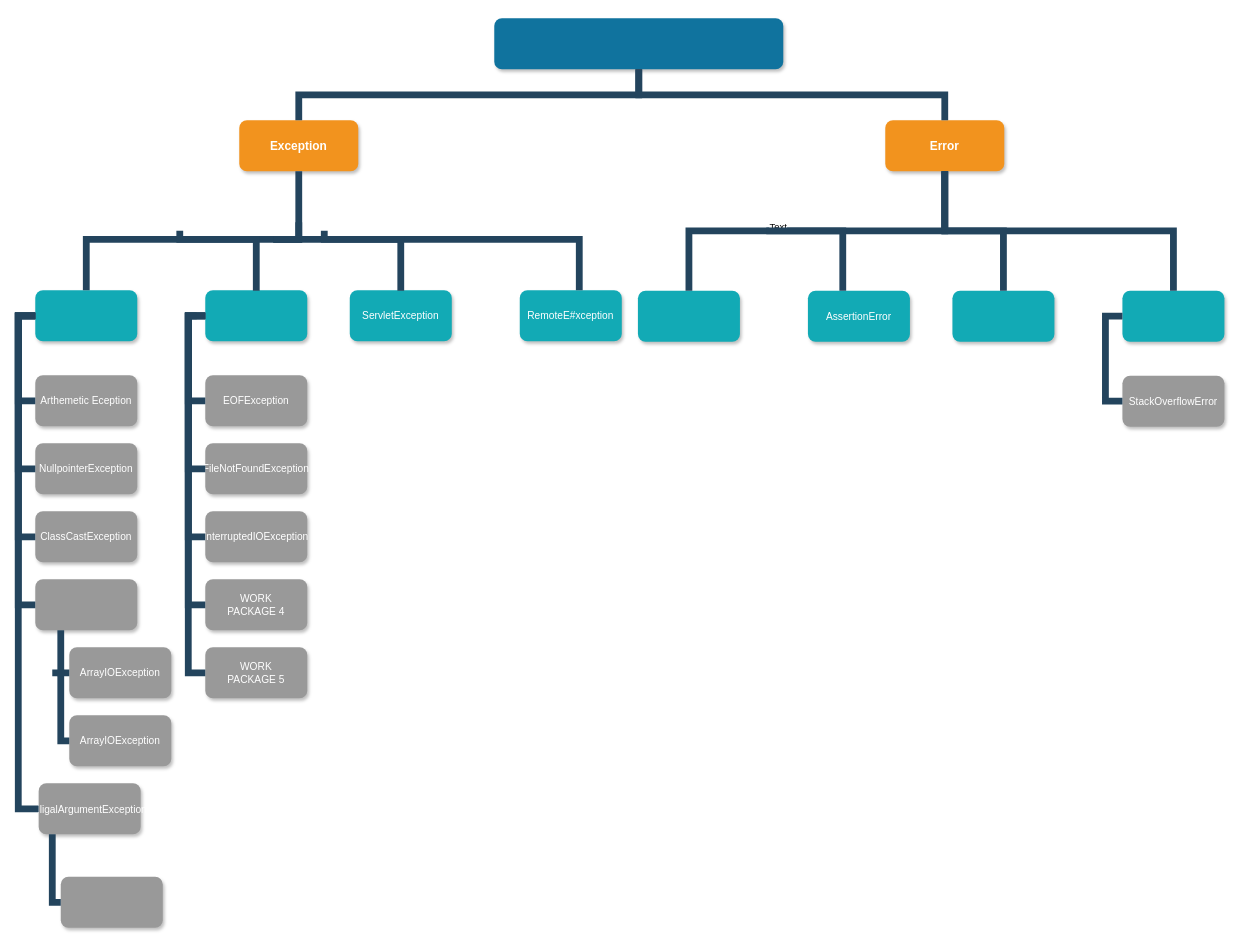
Image size: 1244x948. Some labels were removed from this diagram. Each missing label, with the centre of its shape:
ExceptionIn Initializer error: point 689,317
IndexOutOfbound Exception: point 86,605
IOException: point 256,316
NumberFormatException: point 112,903
OutOfMemoryException: point 1004,317
RuntimeException: point 86,316
Throwable: point 639,44
VMError: point 1174,317
